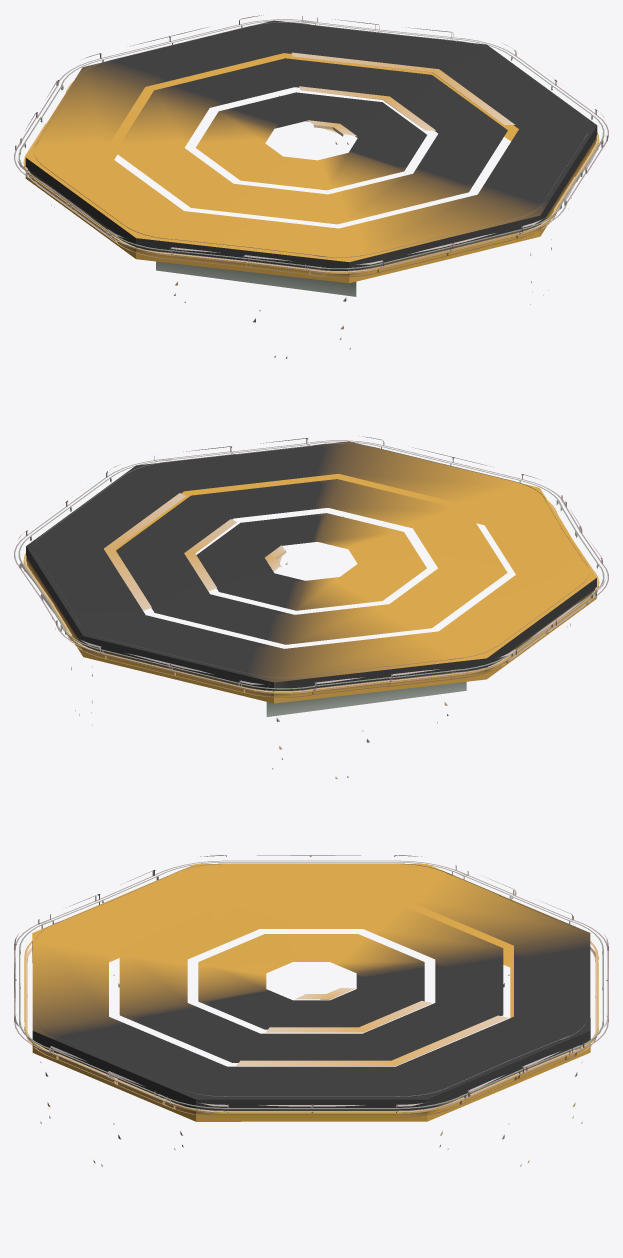
The model's file is Arena.FBX.
3 renders of one model, top to bottom at view 1: azimuth 30°, elevation 25°; view 2: azimuth 150°, elevation 25°; view 3: azimuth 270°, elevation 25°, orthographic. The views are drawn at different scales.
Parts seen in each view (by area): view 1: Object018; view 2: Object018; view 3: Object018.
Boxes of the visible parts, x1,y1,x2,y2 form: Object018: (14, 15, 608, 358); Object018: (14, 436, 608, 778); Object018: (14, 855, 608, 1166).
Bounding box in the file's own units: 483 × 141 × 483.
